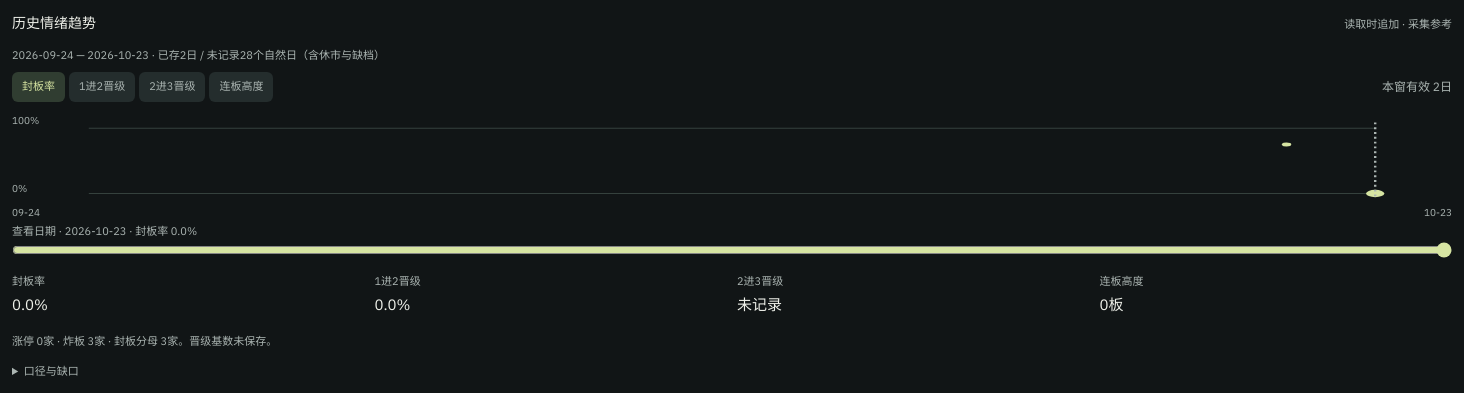
Scenario: review historical metric reference › selects metrics and dates with a native keyboard-operable range, preserving a missing day
Click the button "连板高度" at (241, 87), box [209,72,273,102]
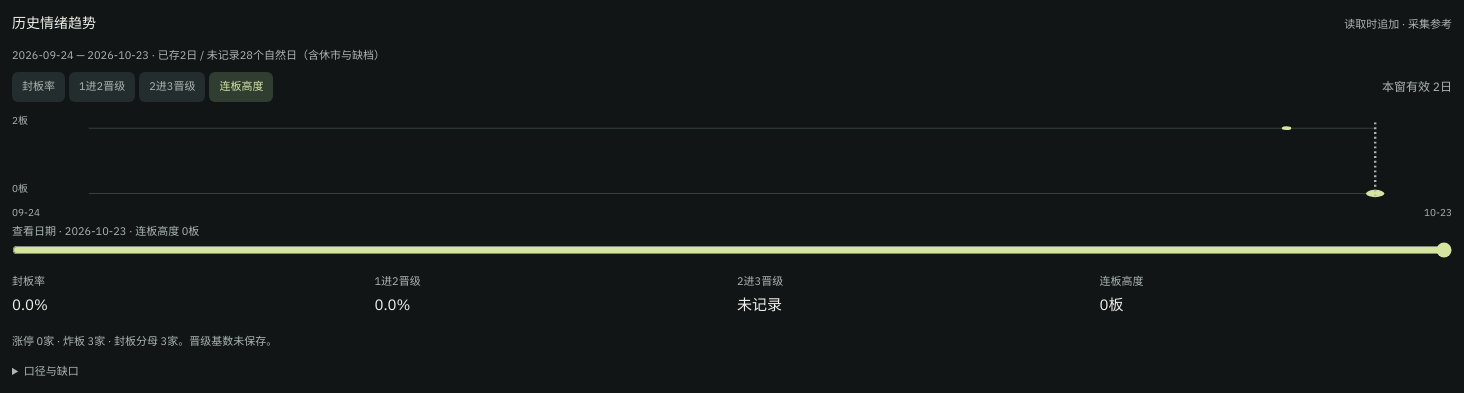
Result: the button "连板高度" is pressed at [209,72,273,102]
Set the slider named "查看历史日期" to "27" at (1346, 250), box [12,242,1452,258]
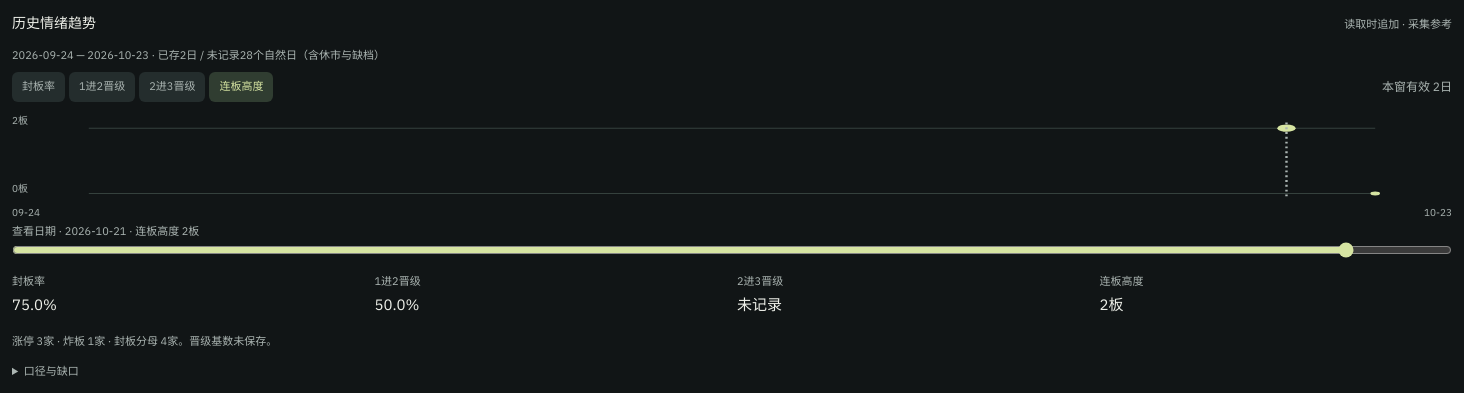
Result: the slider named "查看历史日期" has attribute aria-valuetext="2026-10-21"
Set the slider named "查看历史日期" to "28" at (1395, 250), box [12,242,1452,258]
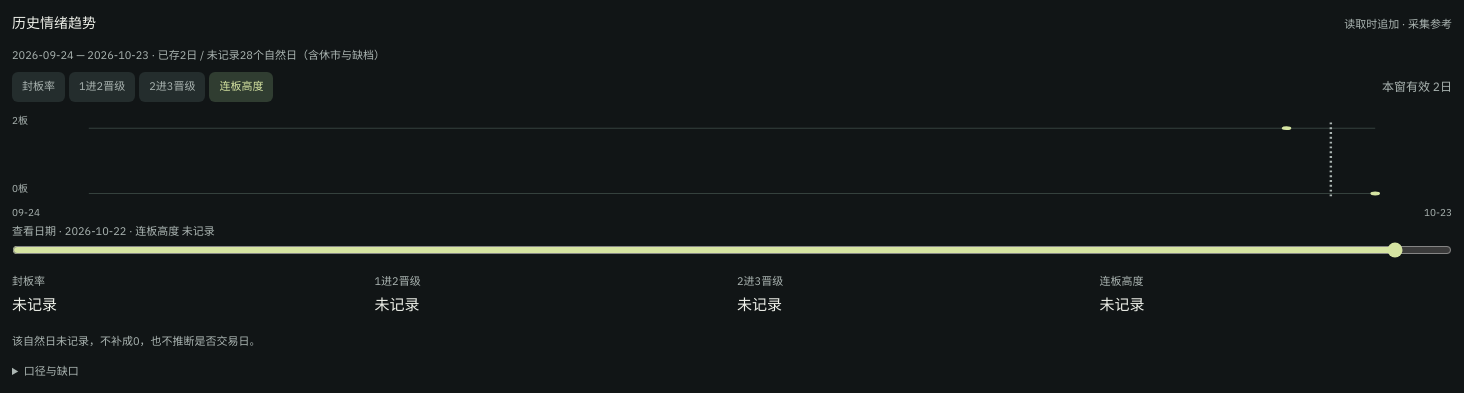
Expected: the text "未记录" is shown 4 times, [12,295,57,314]; [374,295,420,314]; [737,295,782,314]; [1100,295,1144,314]
Result: the text "该自然日未记录，不补成0，也不推断是否交易日。" is shown at [12,334,261,348]
